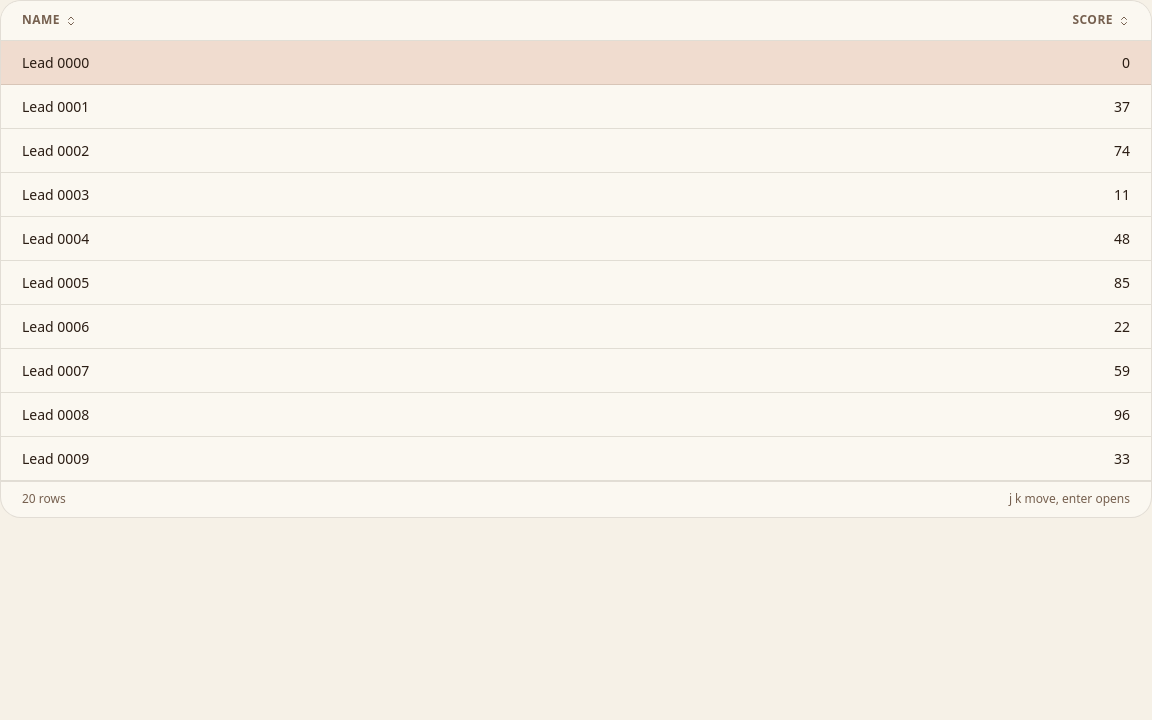
Test: DataTable › sorts ascending, descending, then back
The width and height of the screenshot is (1152, 720).
What coordinates should you click on to do the following:
click the button "Name"
I would click on:
 (50, 20)
Its box is [22, 11, 77, 30].
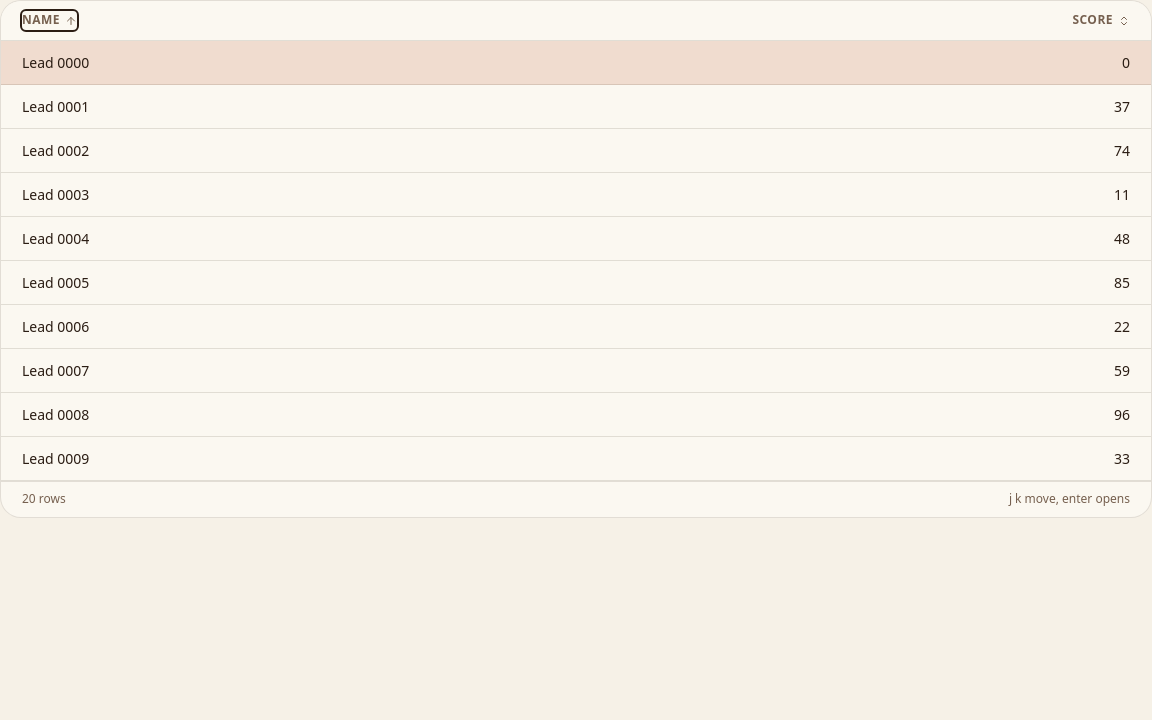
Result: the column heading "Name" has attribute aria-sort="ascending"
What coordinates should you click on to do the following:
click the button "Name"
I would click on:
 (50, 20)
Its box is [22, 11, 77, 30].
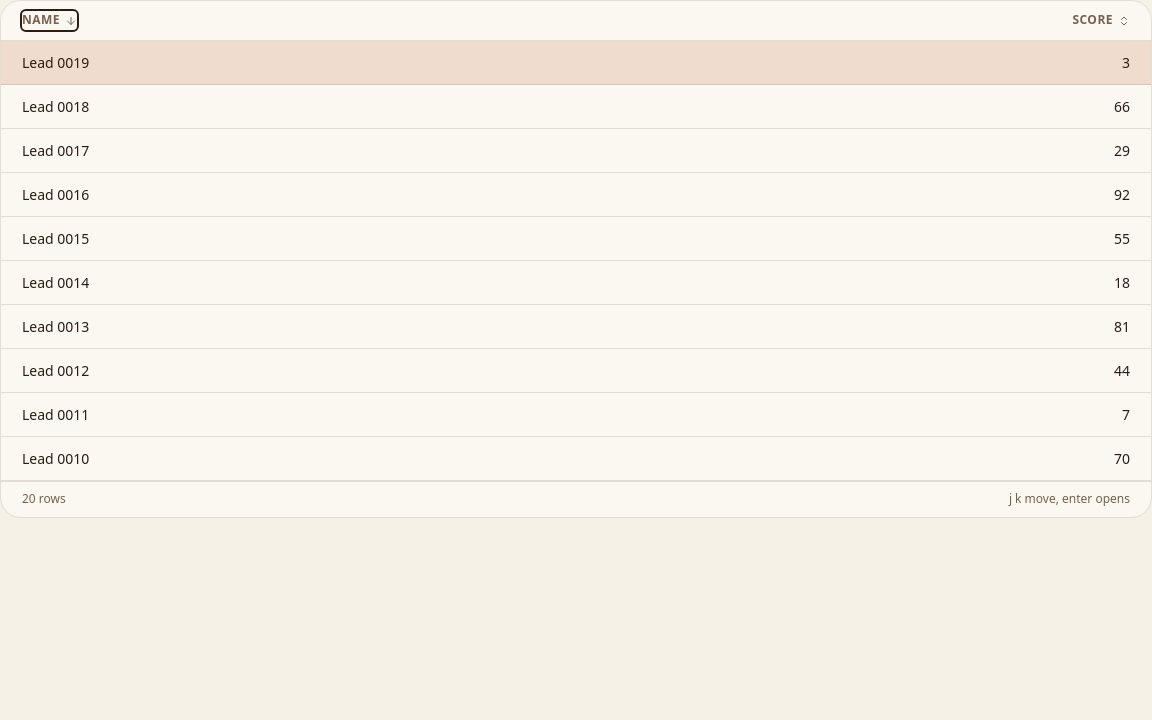
Result: the cell "Lead 0019" is shown at [22, 53, 89, 72]
What coordinates should you click on to do the following:
click the button "Name"
I would click on:
 (50, 20)
Its box is [22, 11, 77, 30].
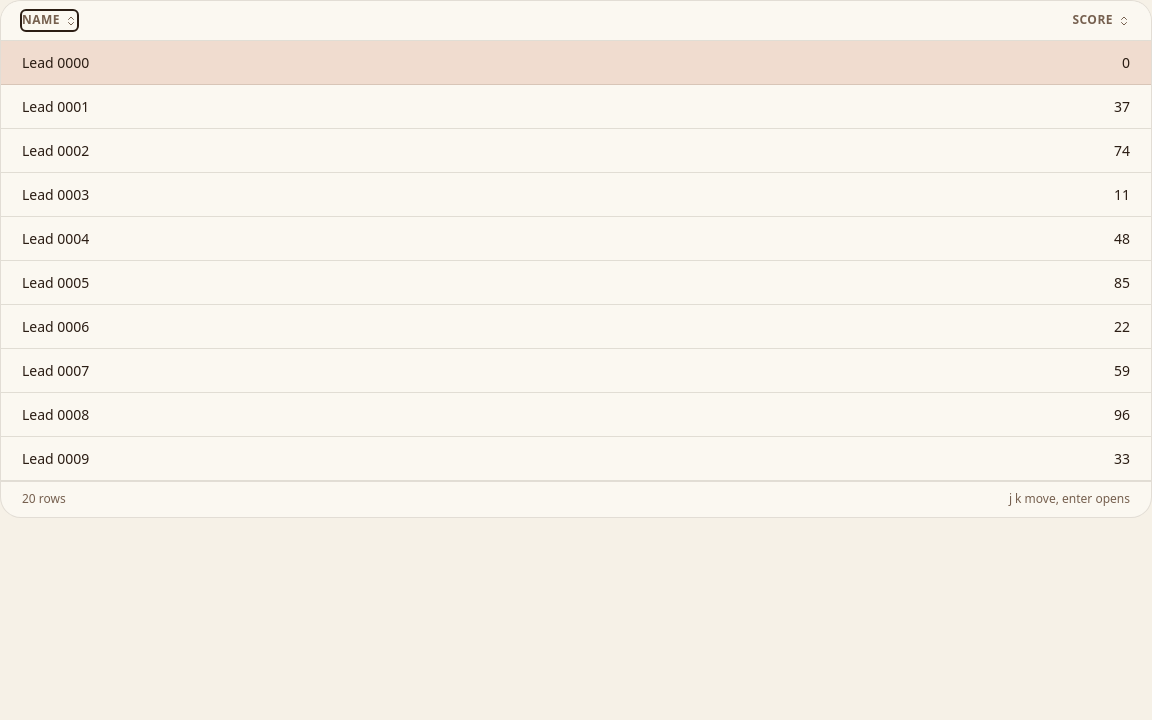
Result: the cell "Lead 0000" is shown at [22, 53, 89, 72]
